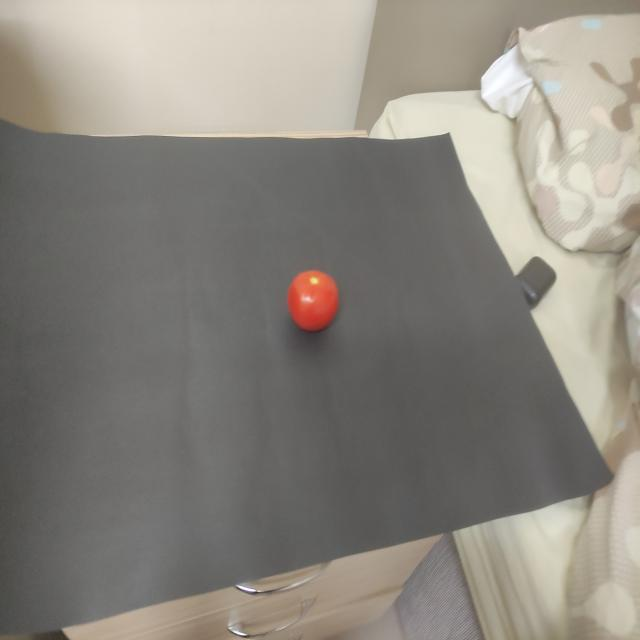kirmizi: (274, 252, 353, 348)
